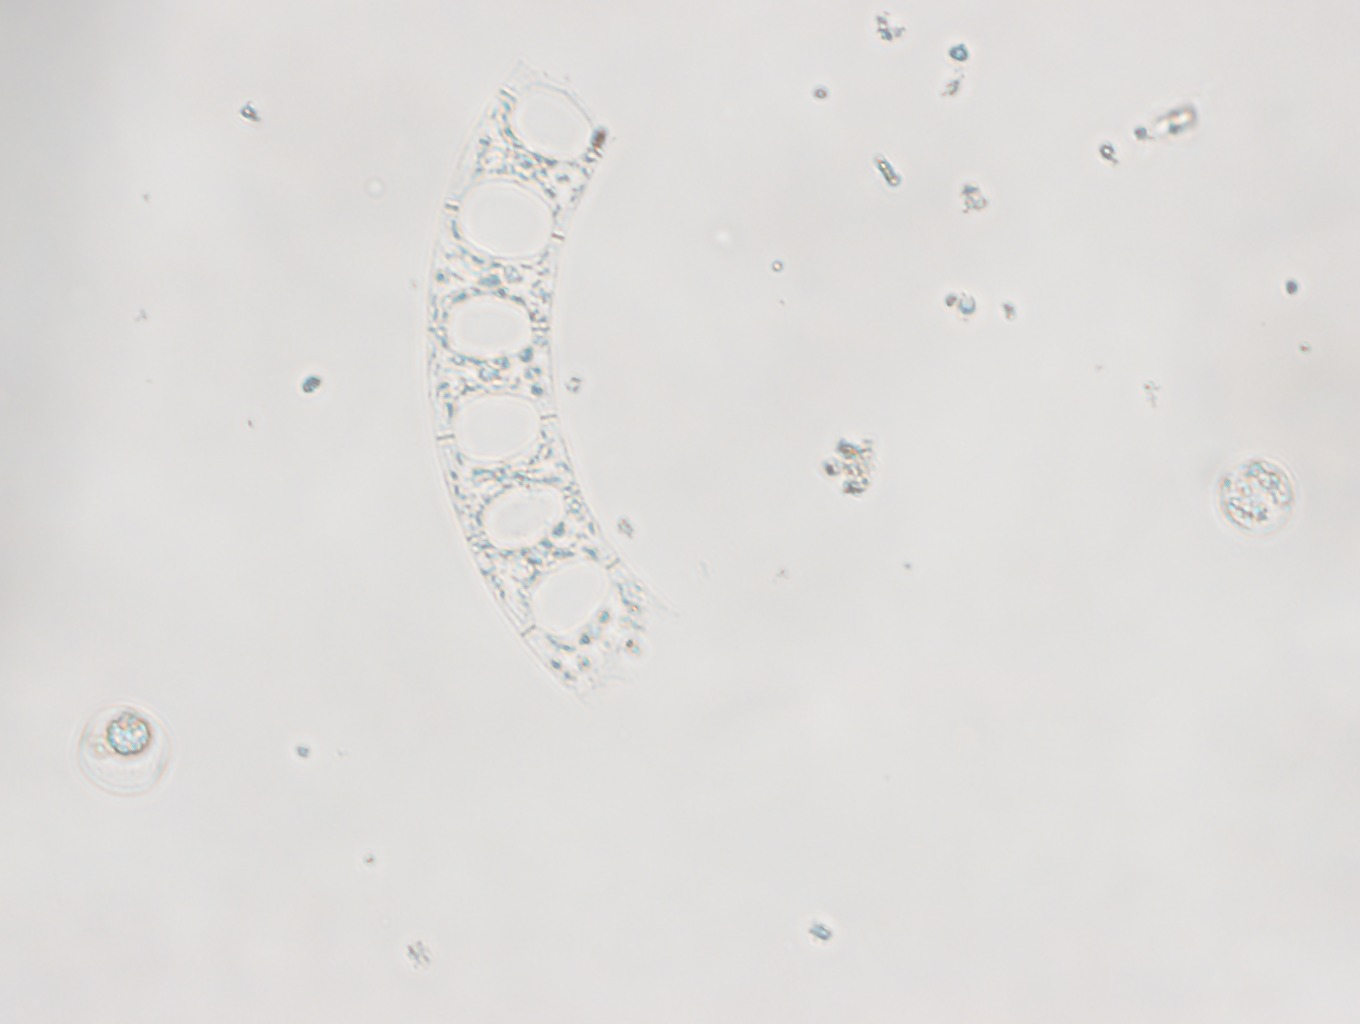eucampia: (423, 61, 679, 700)
